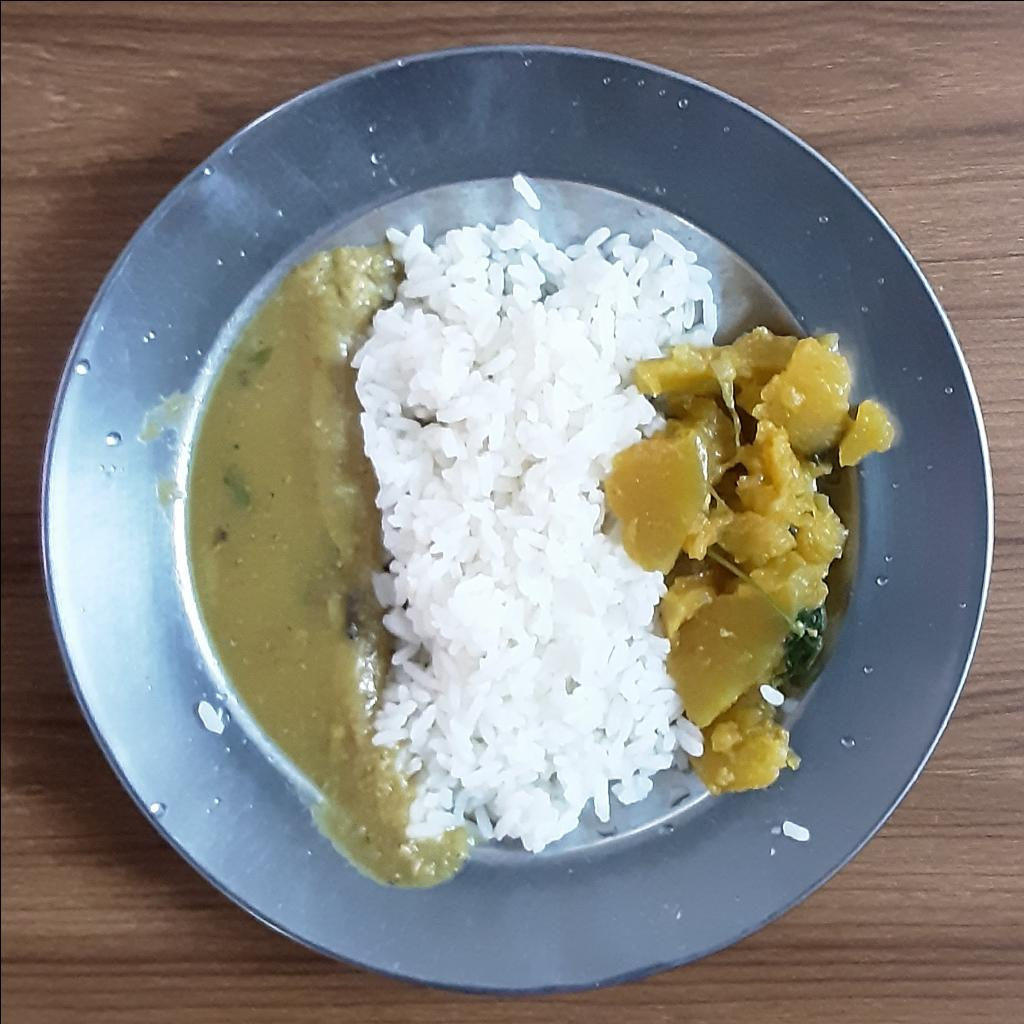daal: (182, 240, 475, 891)
kumra-vaji: (604, 330, 904, 793)
rice: (359, 216, 714, 852), (504, 167, 543, 210), (751, 679, 794, 715), (771, 822, 808, 841), (198, 699, 222, 728)
